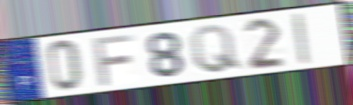0: (46, 38, 86, 93)
2: (242, 16, 290, 72)
8: (146, 30, 187, 78)
F: (90, 32, 136, 87)
I: (291, 11, 313, 67)
Q: (188, 23, 245, 75)
